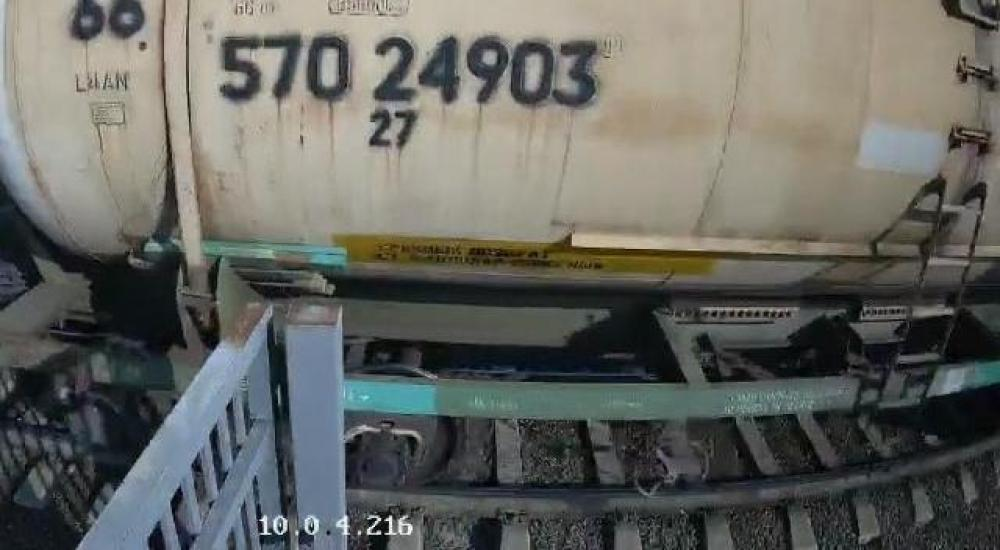Wagon-number: (217, 31, 600, 110)
